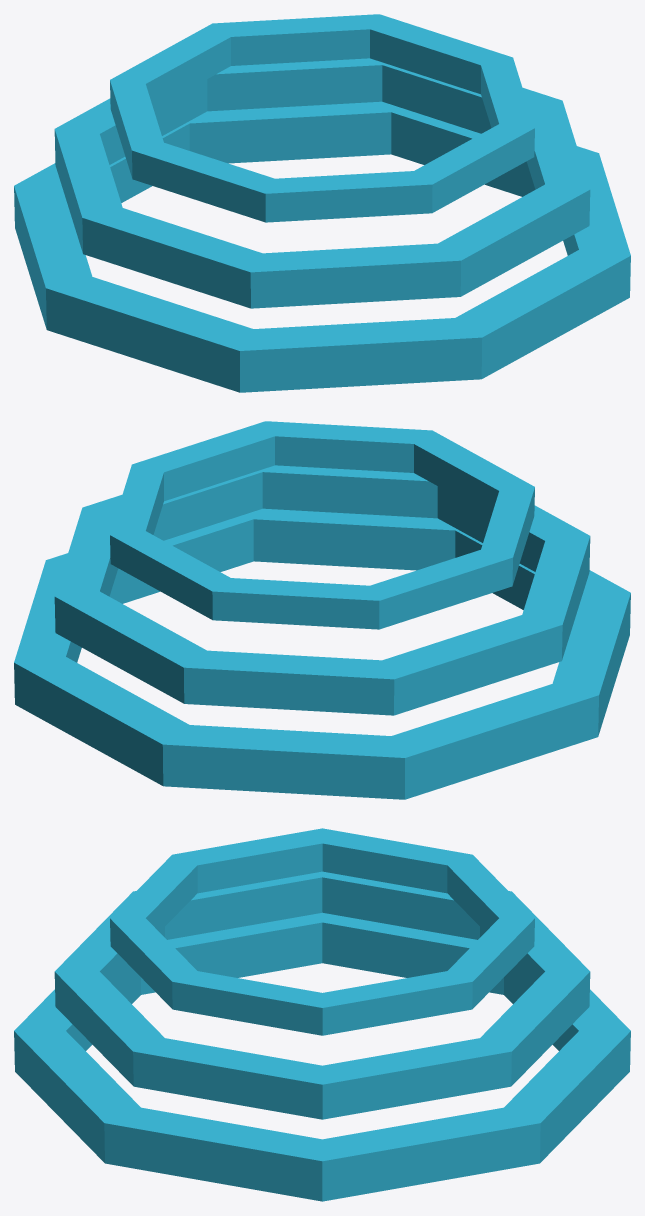
Rendered from enemy_around_object.fbx.
3 views of the same model, one above another, from view 1: azimuth 30°, elevation 25°; view 2: azimuth 150°, elevation 25°; view 3: azimuth 270°, elevation 25° (orthographic). The views are drawn at different scales.
Visible parts, largest first — view 1: Cylinder, Cylinder.001, Cylinder.002; view 2: Cylinder, Cylinder.001, Cylinder.002; view 3: Cylinder, Cylinder.001, Cylinder.002.
Boxes of the visible parts, box(x1,y1,x2,y2) form: Cylinder: box(14, 101, 630, 392); Cylinder.001: box(54, 58, 590, 308); Cylinder.002: box(110, 14, 534, 222); Cylinder: box(14, 508, 630, 799); Cylinder.001: box(54, 465, 590, 715); Cylinder.002: box(110, 421, 534, 629); Cylinder: box(14, 912, 630, 1201); Cylinder.001: box(54, 871, 590, 1119); Cylinder.002: box(110, 828, 534, 1035).
Size of the model in its own units: 503 by 138 by 503.
